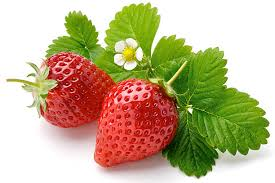strawberry: (94, 74, 181, 169), (28, 51, 118, 130)
